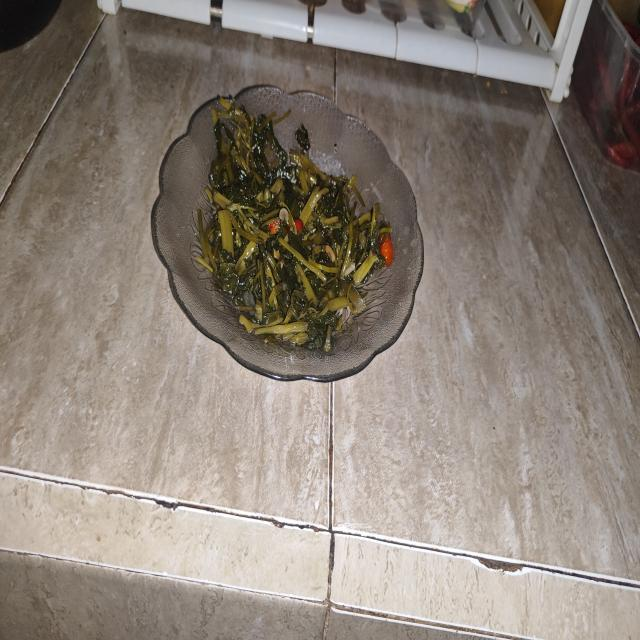tumis_kangkung: (203, 98, 384, 344)
